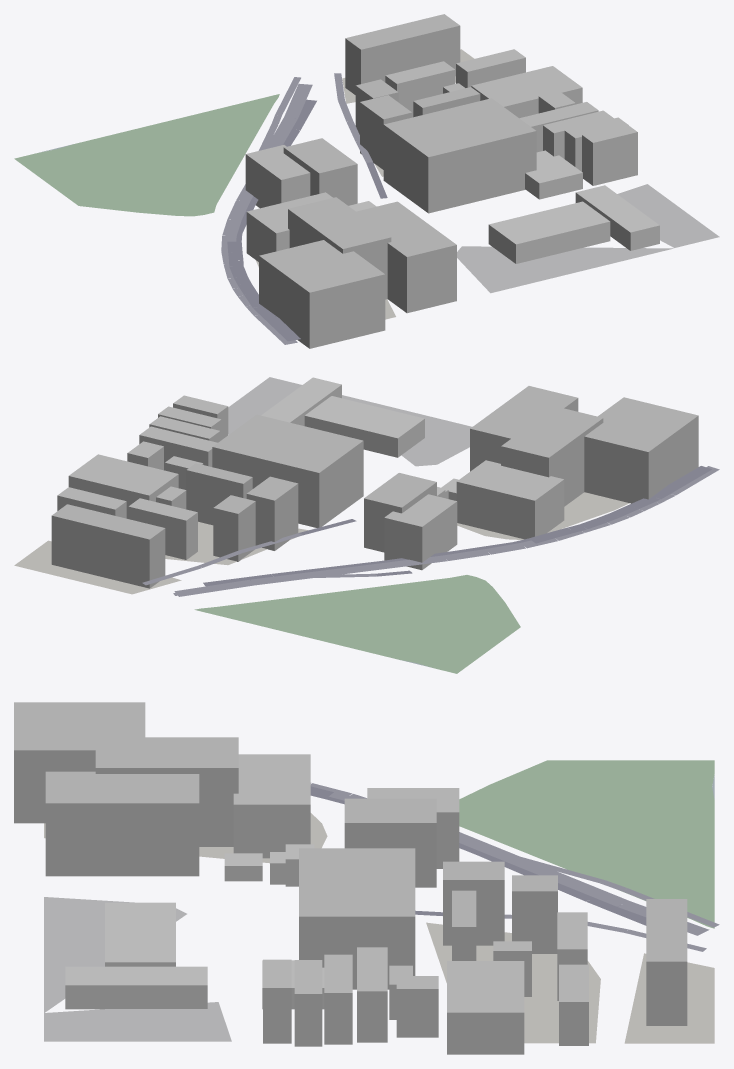
The model's file is 118_113_mid.glb.
The picture shows the model from 3 angles, top to bottom: view 1: azimuth 30°, elevation 25°; view 2: azimuth 150°, elevation 25°; view 3: azimuth 270°, elevation 25°; orthographic projection. The views are drawn at different scales.
Bounding box in the file's own units: 520 × 66.18 × 526.
